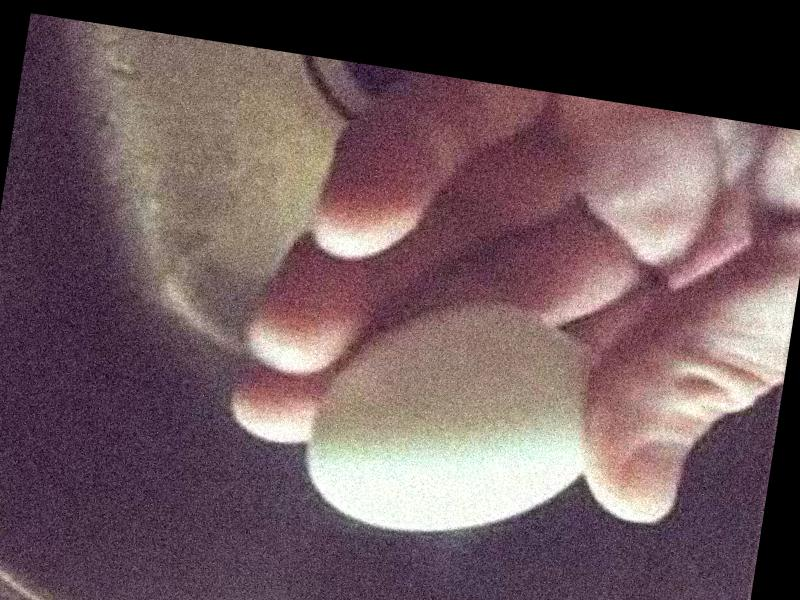Eggs: (296, 282, 608, 556)
